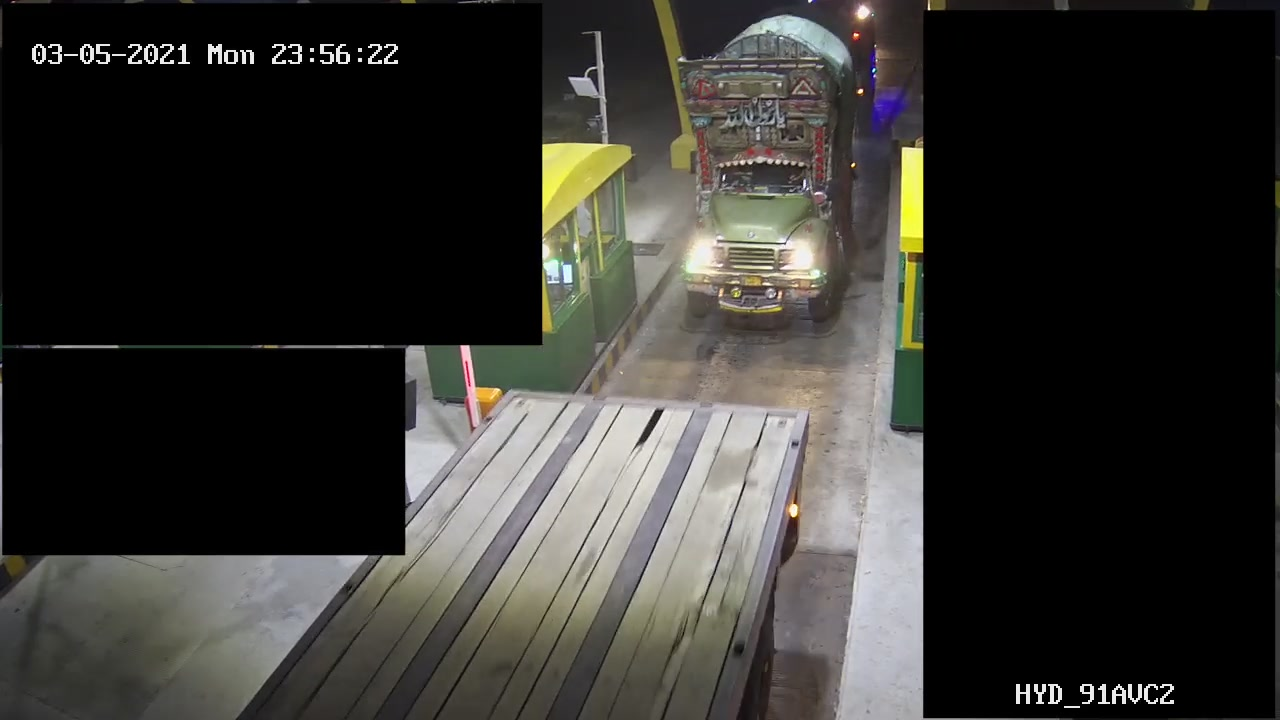F5: (668, 1, 861, 328)
